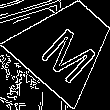M_NE: (31, 11, 100, 80)
